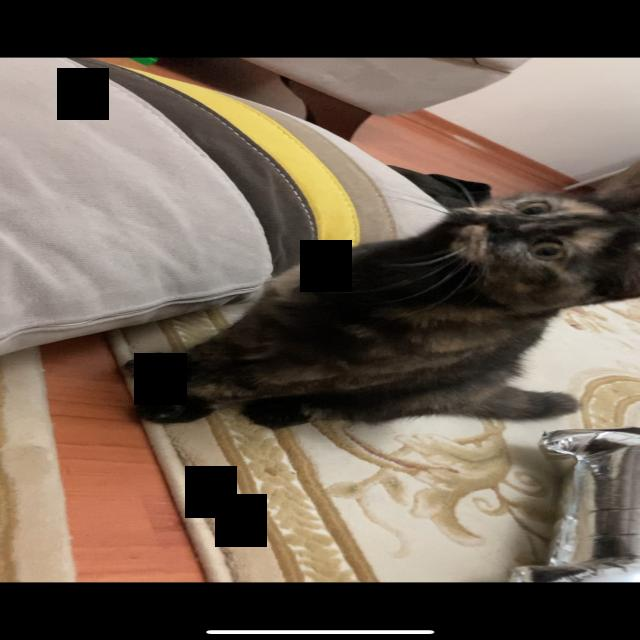authorized: (122, 184, 638, 429)
